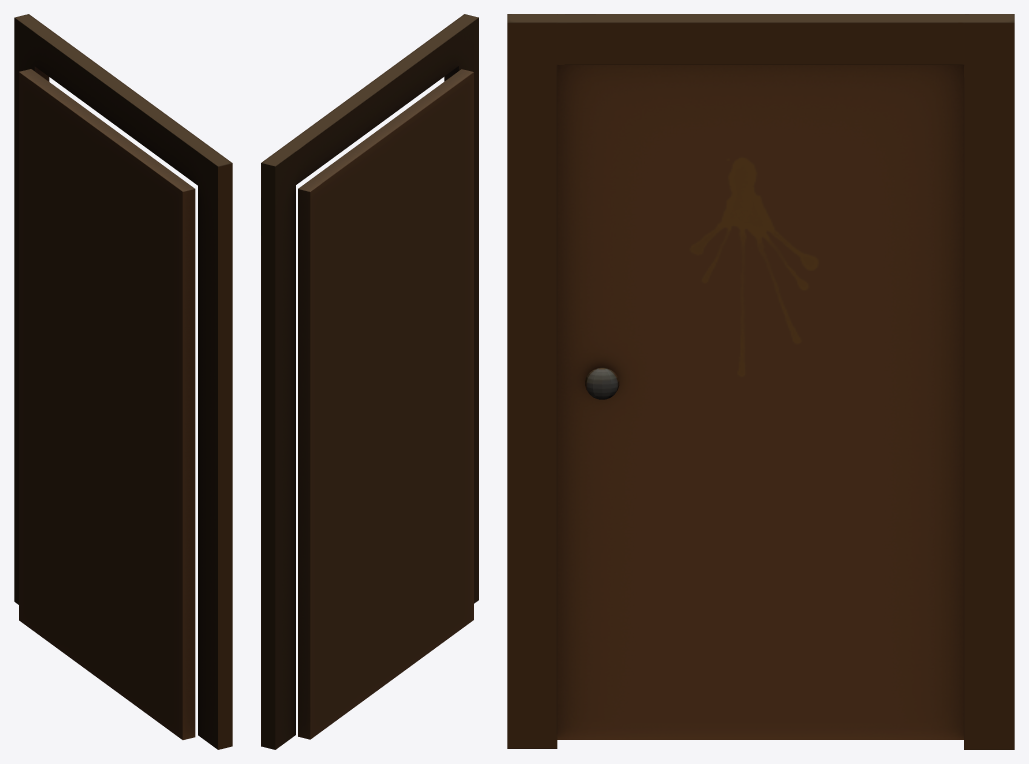
The model's file is Door.fbx.
3 views of the same model, side by side, from view 1: azimuth 30°, elevation 25°; view 2: azimuth 150°, elevation 25°; view 3: azimuth 270°, elevation 25° (orthographic). The views are drawn at different scales.
Visible parts, largest first — view 1: pCube127; view 2: pCube127; view 3: pCube127.
Part boxes in pixels (x1,y1,x2,y2): pCube127: (14, 14, 232, 749); pCube127: (261, 14, 478, 749); pCube127: (507, 14, 1014, 749).
Size of the model in its own units: 4.02 by 75.54 by 47.72.
1 material, 1 textured.
